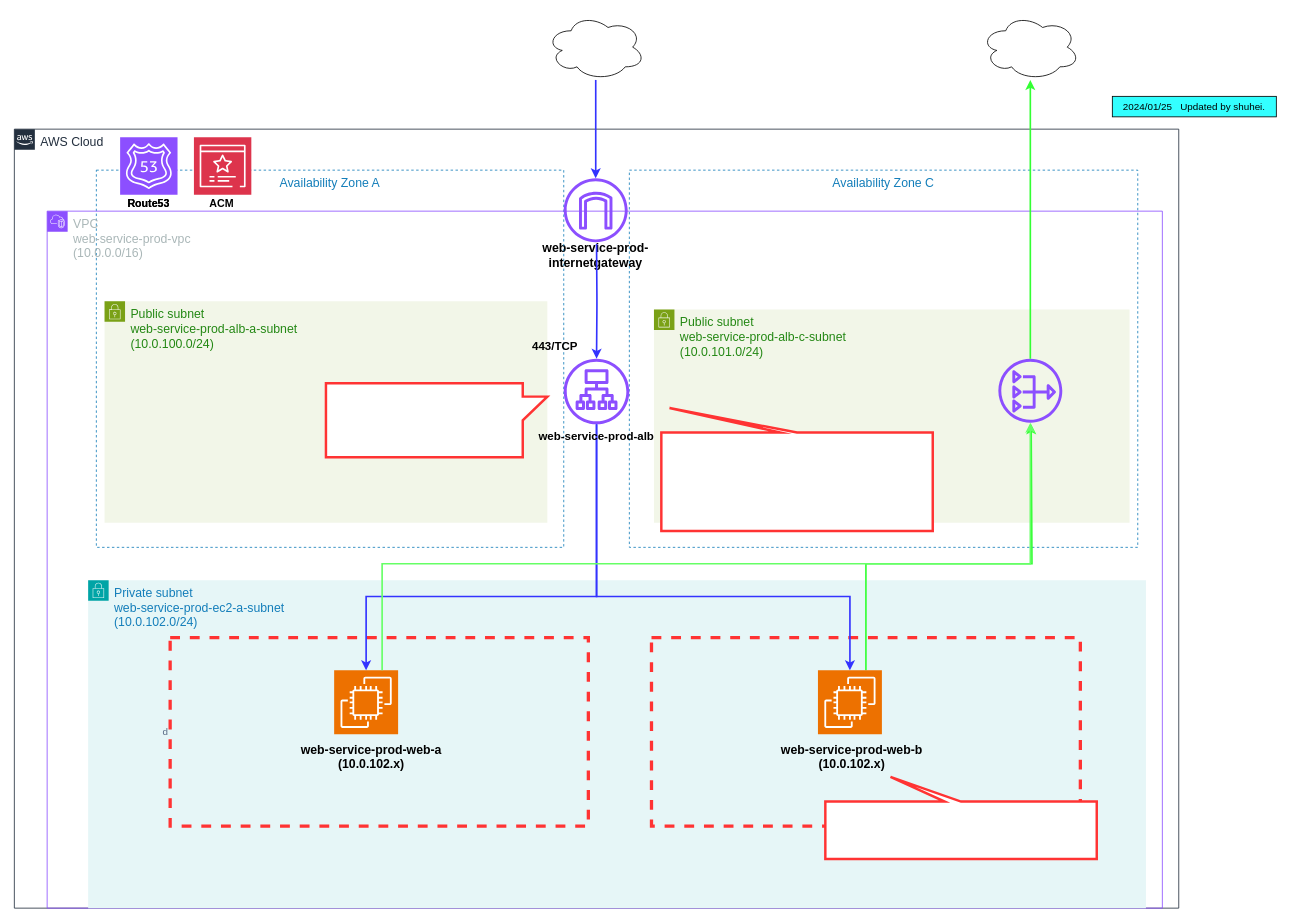
Some shapes in this 1291 by 923 pixel diagram are drawn without their labels. Each missing label, with the centre of its shape:
"ターゲットグループ 80/TCP web-service-prod-web-a- 80-targetgroup" belongs at pixel 365 702.
"ターゲットグループ 80/TCP web-service-prod-web-b- 80-targetgroup" belongs at pixel 849 702.
"リスナー 443/TCP →リスナールールを設定してURLによりweb-aに転送したりweb-bに転送する。" belongs at pixel 797 469.
"リスナーにSSL証明書を割り当てる。" belongs at pixel 436 420.
"固定IPアドレスは割り当てない。" belongs at pixel 961 817.
